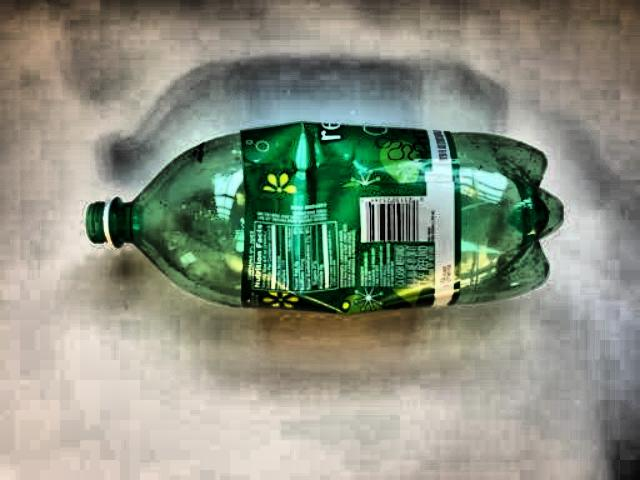Bottles: (49, 113, 585, 325)
